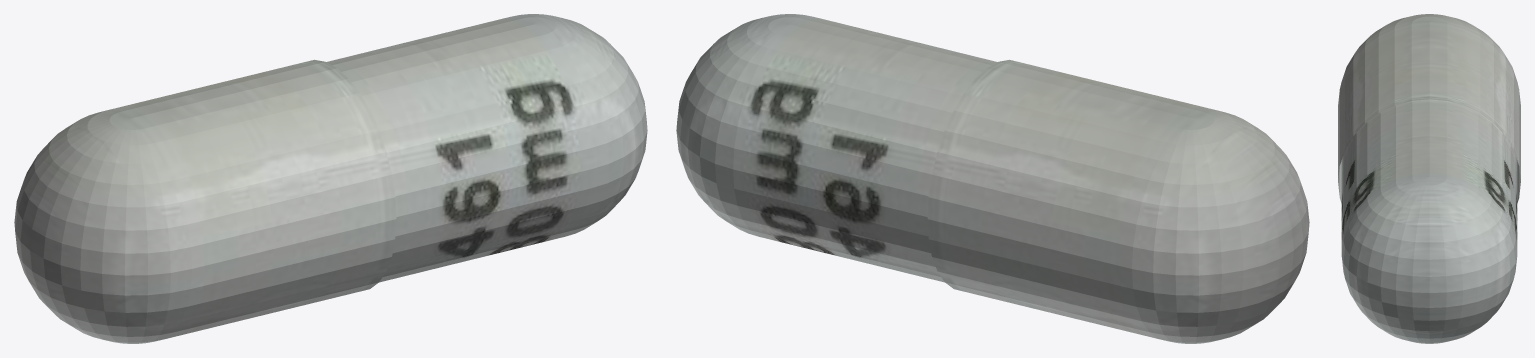
3 views of the same model, side by side, from view 1: azimuth 30°, elevation 25°; view 2: azimuth 150°, elevation 25°; view 3: azimuth 270°, elevation 25° (orthographic). The views are drawn at different scales.
Visible parts, largest first — view 1: 球體; view 2: 球體; view 3: 球體.
Part boxes in pixels (box(x1,y1,x2,y2)): 球體: box(14, 14, 647, 343); 球體: box(676, 14, 1309, 343); 球體: box(1338, 14, 1520, 343).
Bounding box in the file's own units: 2.93 × 1 × 1.
1 material, 1 textured.
